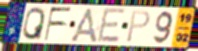9: (152, 10, 174, 45)
A: (68, 6, 99, 44)
E: (96, 7, 127, 44)
F: (43, 6, 73, 42)
P: (125, 10, 152, 43)
Q: (21, 6, 46, 41)
